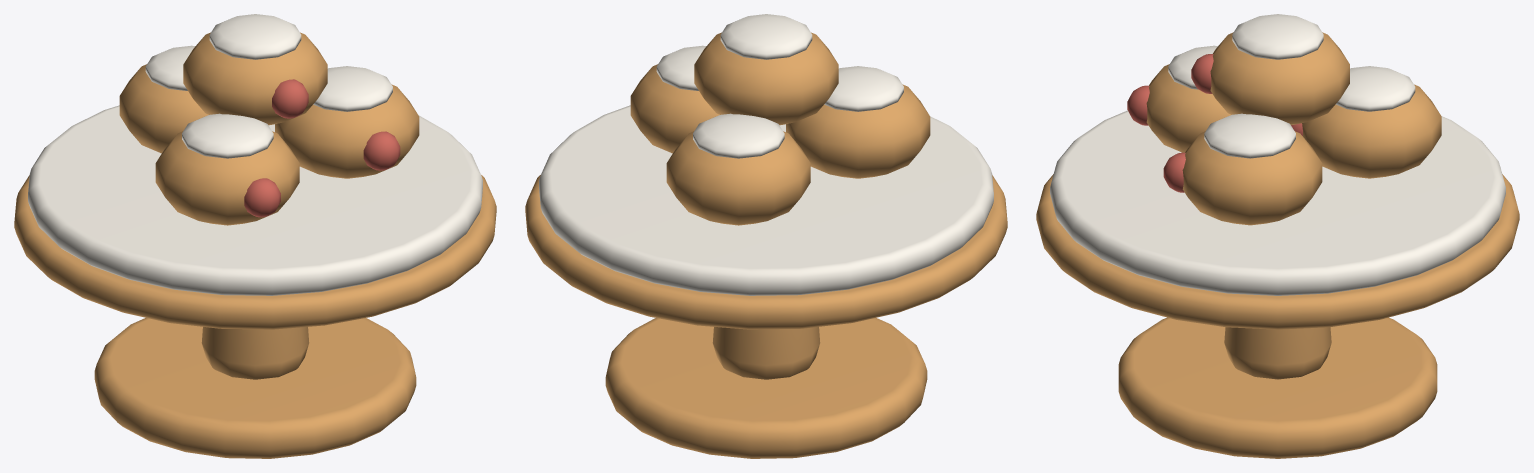
The model's file is berliner_plate.glb.
3 renders of one model, left to right at view 1: azimuth 30°, elevation 25°; view 2: azimuth 150°, elevation 25°; view 3: azimuth 270°, elevation 25°, orthographic.
Visible parts, largest first — view 1: berliner_plate_mesh; view 2: berliner_plate_mesh; view 3: berliner_plate_mesh.
Boxes of the visible parts, x1=… form: berliner_plate_mesh: x1=14, y1=14, x2=496, y2=458; berliner_plate_mesh: x1=525, y1=14, x2=1007, y2=458; berliner_plate_mesh: x1=1036, y1=14, x2=1519, y2=458.
Bounding box in the file's own units: 0.36 × 0.3055 × 0.36.
